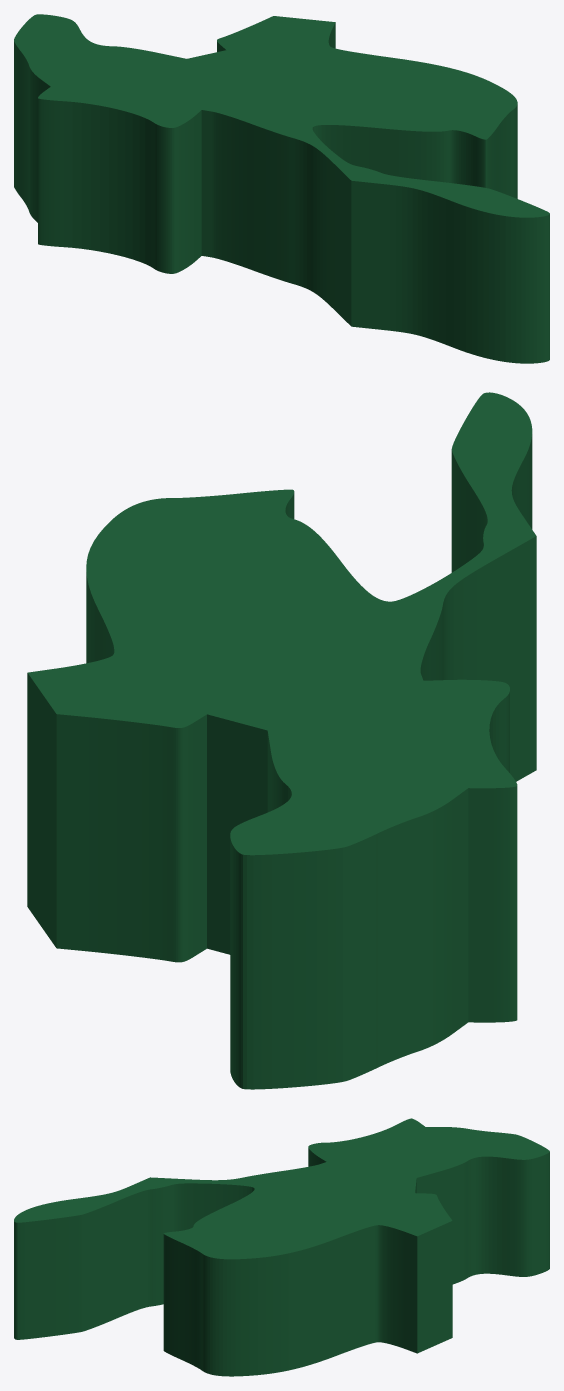
The model's file is Asia_09.obj.
3 views of the same model, one above another, from view 1: azimuth 30°, elevation 25°; view 2: azimuth 150°, elevation 25°; view 3: azimuth 270°, elevation 25° (orthographic). The views are drawn at different scales.
Parts seen in each view (by area): view 1: Asia_09_path4270; view 2: Asia_09_path4270; view 3: Asia_09_path4270.
Boxes of the visible parts, x1,y1,x2,y2 form: Asia_09_path4270: (14, 14, 549, 363); Asia_09_path4270: (27, 392, 536, 1089); Asia_09_path4270: (14, 1118, 549, 1376).
Bounding box in the file's own units: 0.2579 × 0.1 × 0.4146.
